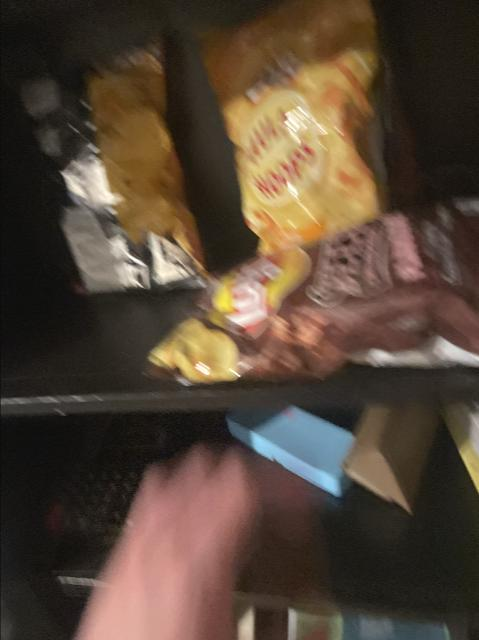Chio Cascaval 125g: (25, 7, 205, 290)
Chio Hula Hoops Cheese 70g: (200, 0, 388, 259)
Lays Beef Grilled Ribs 125g: (148, 194, 479, 389)
